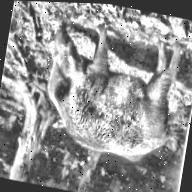boar: (34, 13, 184, 170)
